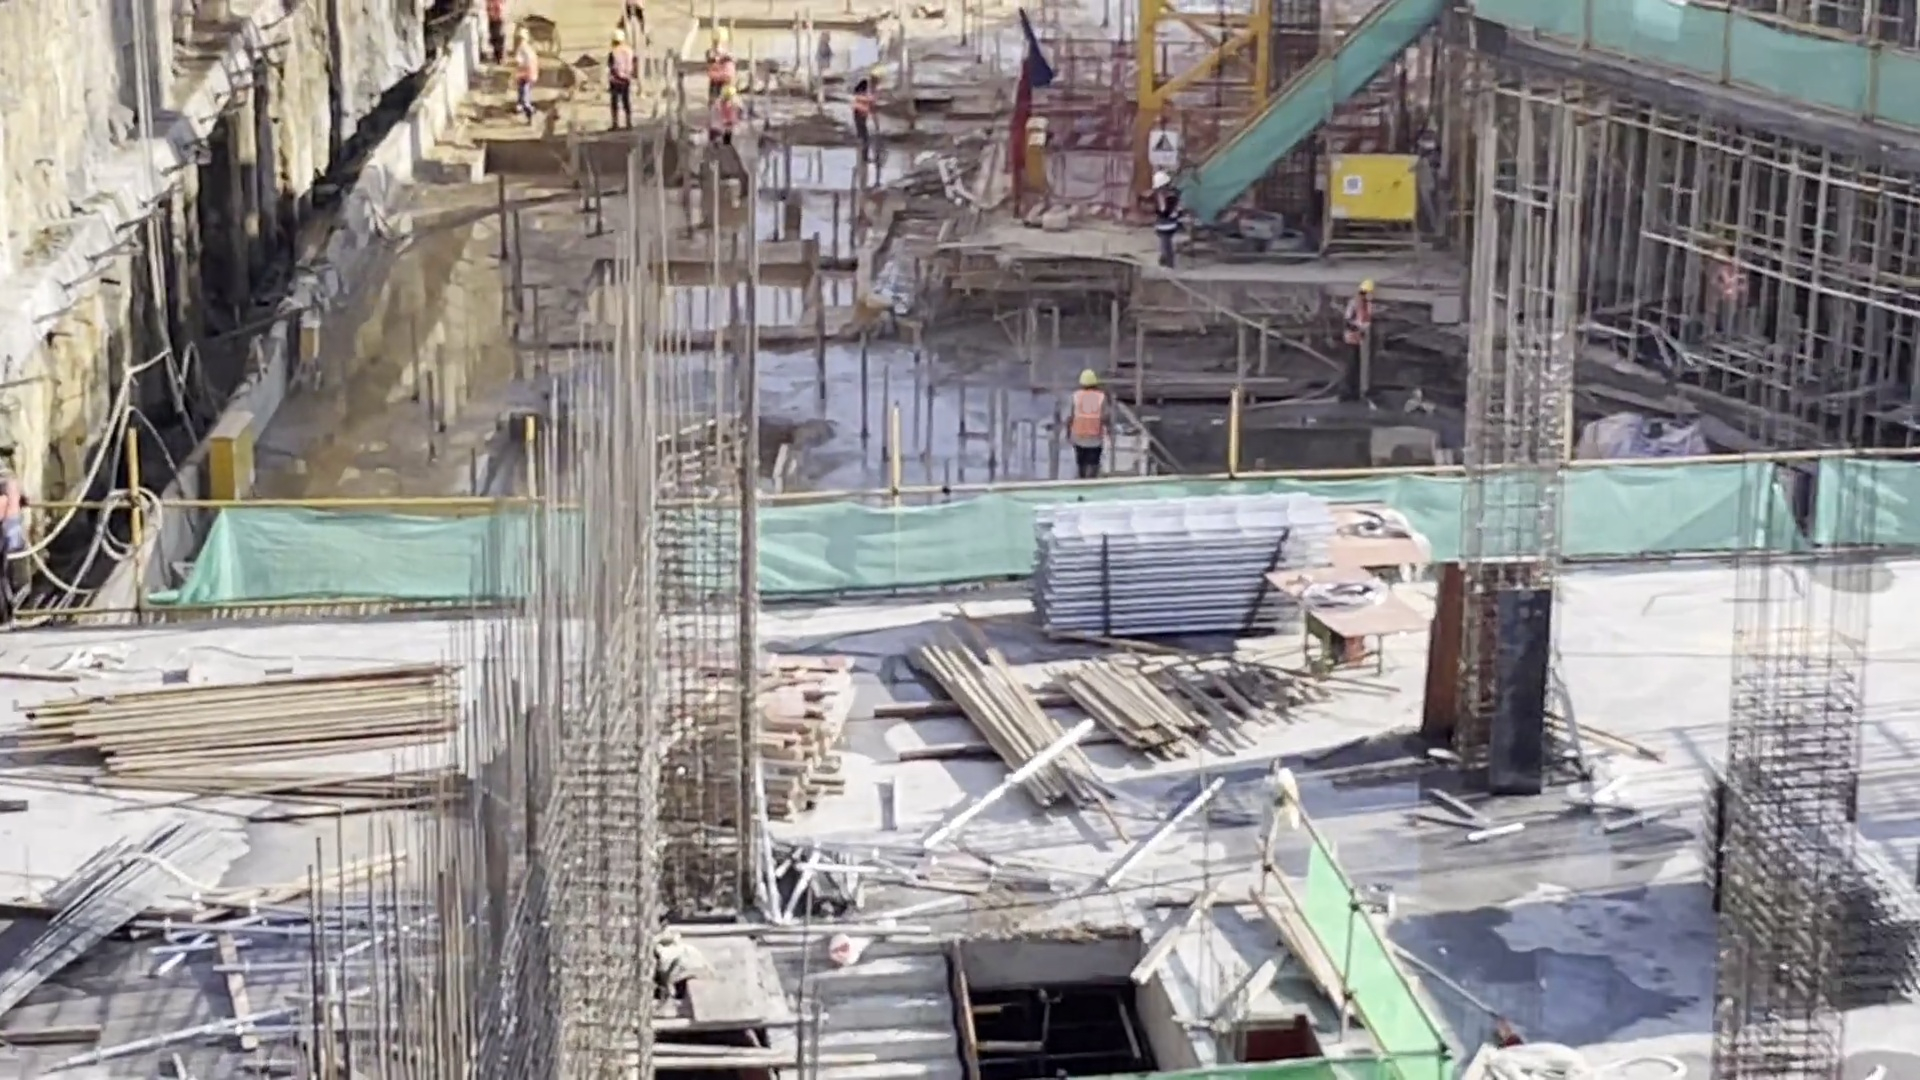helmet: (1073, 367, 1101, 383), (1355, 280, 1379, 296), (710, 27, 729, 43), (1148, 172, 1171, 186), (718, 88, 736, 103), (866, 65, 884, 78), (512, 28, 527, 39), (610, 31, 624, 42)
person: (838, 45, 895, 174), (1066, 367, 1119, 495), (1339, 276, 1389, 406), (503, 26, 554, 139), (1701, 241, 1752, 341), (604, 27, 644, 135), (1146, 171, 1184, 271), (700, 28, 736, 109), (701, 86, 744, 152)
vest: (606, 52, 644, 110), (1072, 390, 1109, 445), (1345, 299, 1368, 343), (714, 108, 743, 141), (1156, 193, 1180, 228), (514, 49, 538, 83), (707, 53, 732, 80), (852, 91, 872, 119)
